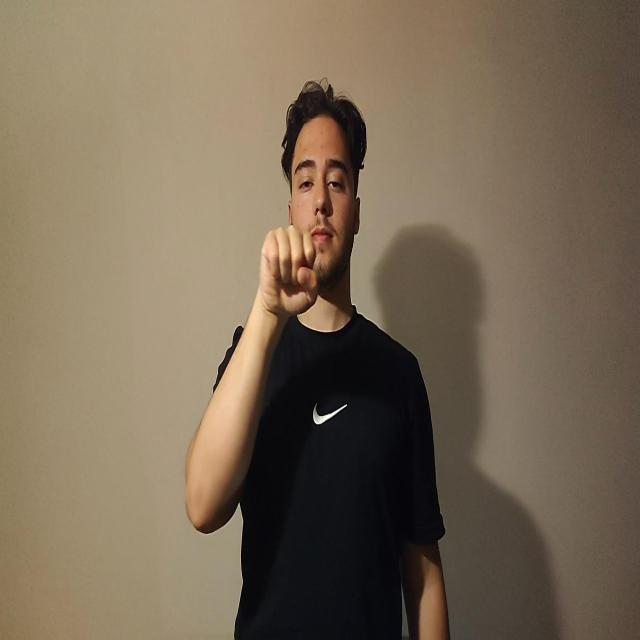yes: (258, 223, 319, 317)
